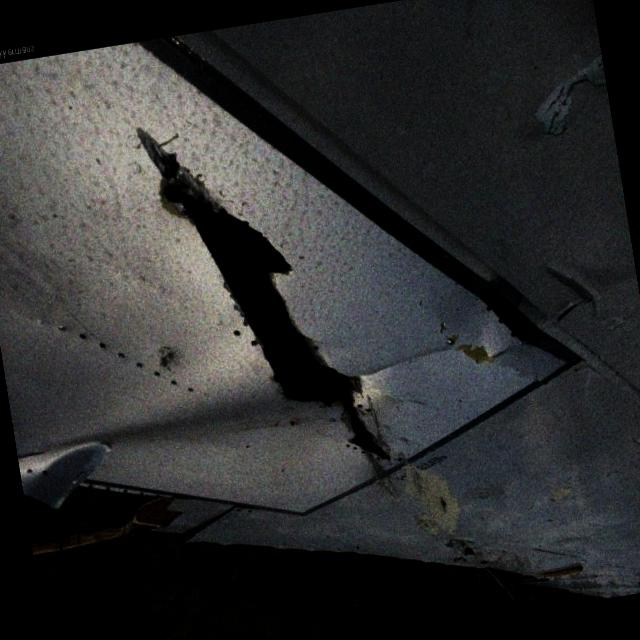crack: (152, 115, 394, 492), (439, 496, 450, 516)
